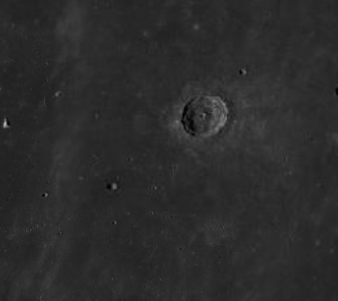crater: (157, 79, 255, 211)
